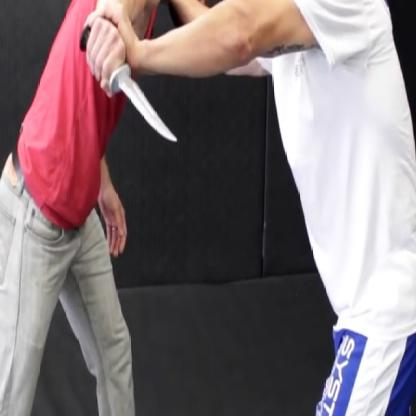knife: (75, 22, 181, 154)
